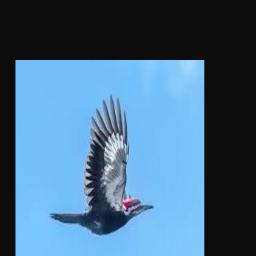Woodpecker: (49, 94, 154, 235)
